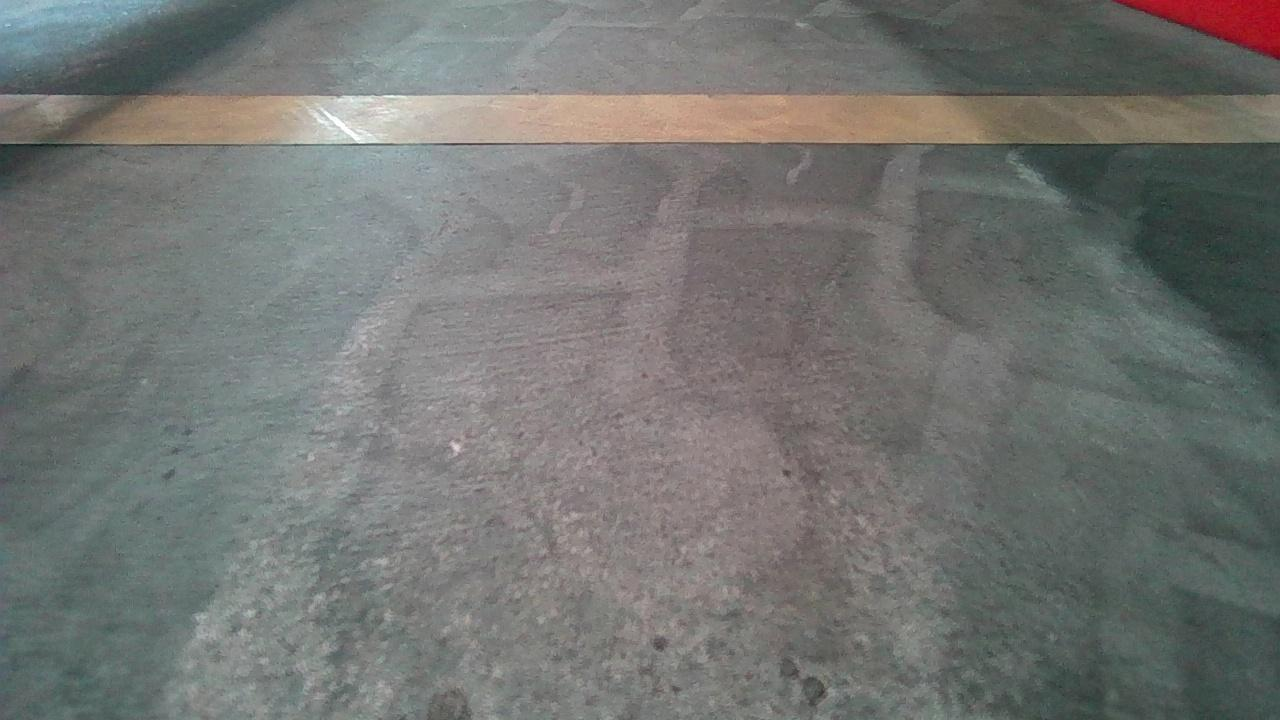yellow_line: (7, 81, 1280, 146)
